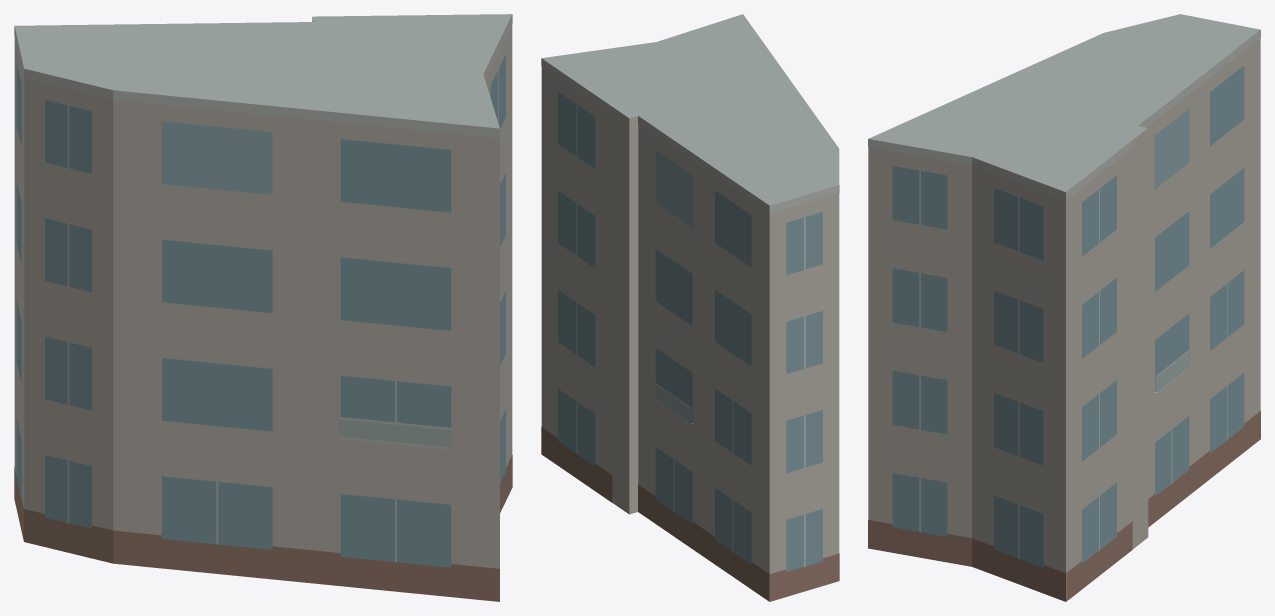
Rendered from survey-upis-32479786.glb.
3 renders of one model, left to right at view 1: azimuth 30°, elevation 25°; view 2: azimuth 150°, elevation 25°; view 3: azimuth 270°, elevation 25°, orthographic. The views are drawn at different scales.
Parts seen in each view (by area): view 1: survey-upis-32479786.tmp; view 2: survey-upis-32479786.tmp; view 3: survey-upis-32479786.tmp.
Part boxes in pixels (x1,y1,x2,y2): survey-upis-32479786.tmp: (14, 14, 512, 601); survey-upis-32479786.tmp: (541, 14, 839, 601); survey-upis-32479786.tmp: (868, 14, 1260, 601).
Size of the model in its own units: 11.3 by 12.1 by 10.52.
